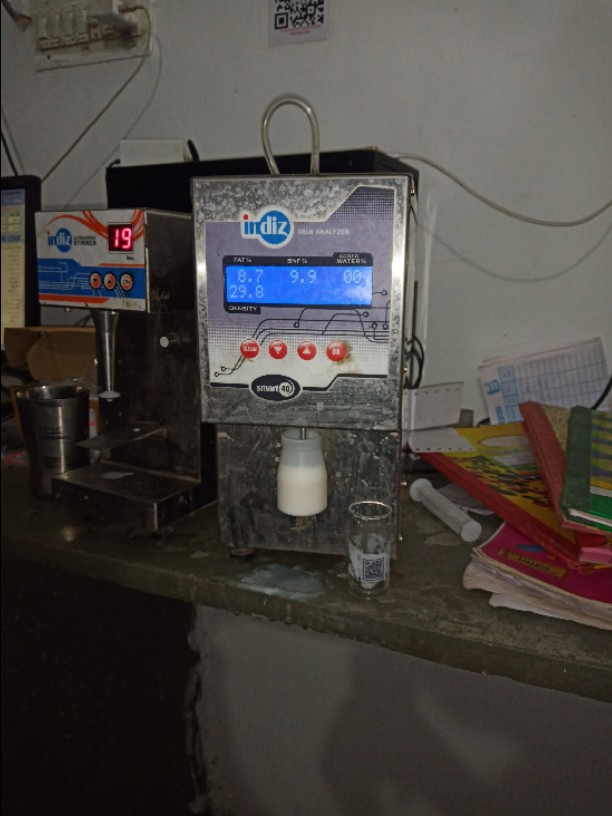lcd: (217, 261, 383, 318)
qr: (351, 545, 396, 585)
